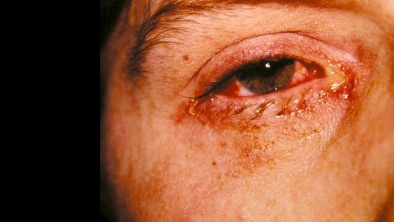SJS-TEN: (108, 0, 394, 222)
